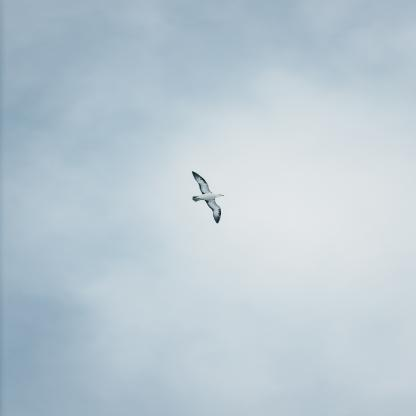bird: (190, 171, 226, 224)
